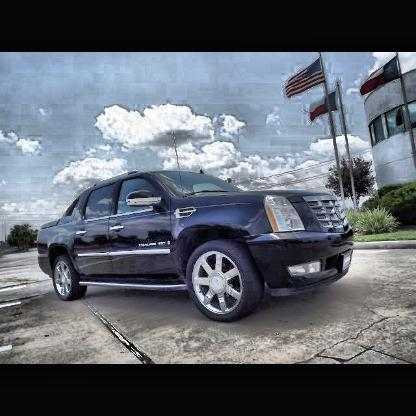Cadillac Escalade EXT Crew Cab 2007: (36, 131, 359, 327)
